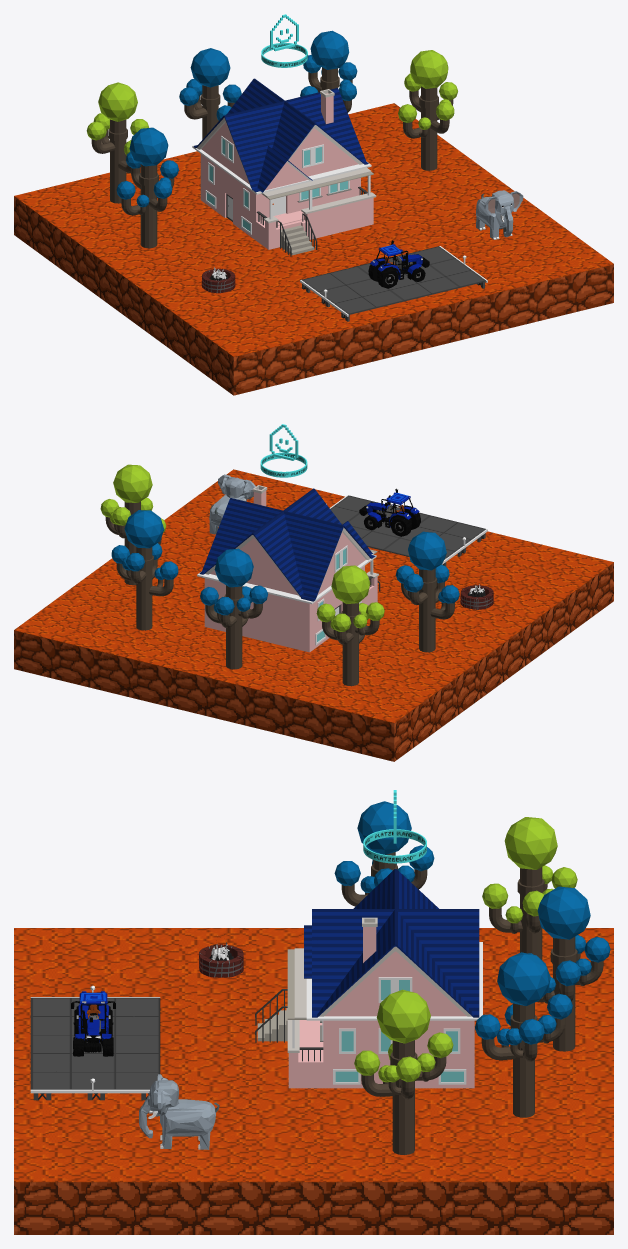
The picture shows the model from 3 angles, top to bottom: view 1: azimuth 30°, elevation 25°; view 2: azimuth 150°, elevation 25°; view 3: azimuth 270°, elevation 25°; orthographic projection. The views are drawn at different scales.
Parts seen in each view (by area): view 1: Cube.001, Cube.313, VEHICLES_TRACTOR, ANIMAL_ELEFANTE, TYPE_PREMIUM, OBJRANDOM_CAMPFIRE; view 2: Cube.001, Cube.313, VEHICLES_TRACTOR, ANIMAL_ELEFANTE, TYPE_PREMIUM, OBJRANDOM_CAMPFIRE; view 3: Cube.001, Cube.313, ANIMAL_ELEFANTE, VEHICLES_TRACTOR, OBJRANDOM_CAMPFIRE, TYPE_PREMIUM.
Boxes of the visible parts, bbox=[...] form: Cube.001: bbox=[14, 30, 613, 395]; Cube.313: bbox=[192, 78, 376, 256]; VEHICLES_TRACTOR: bbox=[368, 240, 429, 288]; ANIMAL_ELEFANTE: bbox=[476, 190, 523, 239]; TYPE_PREMIUM: bbox=[261, 14, 307, 67]; OBJRANDOM_CAMPFIRE: bbox=[201, 267, 235, 293]; Cube.001: bbox=[14, 464, 613, 761]; Cube.313: bbox=[197, 485, 380, 652]; VEHICLES_TRACTOR: bbox=[359, 488, 420, 536]; ANIMAL_ELEFANTE: bbox=[209, 474, 255, 534]; TYPE_PREMIUM: bbox=[260, 424, 307, 477]; OBJRANDOM_CAMPFIRE: bbox=[460, 584, 493, 609]; Cube.001: bbox=[14, 801, 613, 1234]; Cube.313: bbox=[255, 869, 482, 1088]; ANIMAL_ELEFANTE: bbox=[139, 1074, 219, 1149]; VEHICLES_TRACTOR: bbox=[71, 991, 115, 1056]; OBJRANDOM_CAMPFIRE: bbox=[199, 942, 243, 977]; TYPE_PREMIUM: bbox=[363, 790, 426, 863].
Size of the model in its own units: 4000 by 2511 by 4000.
36 materials, 5 textured.
